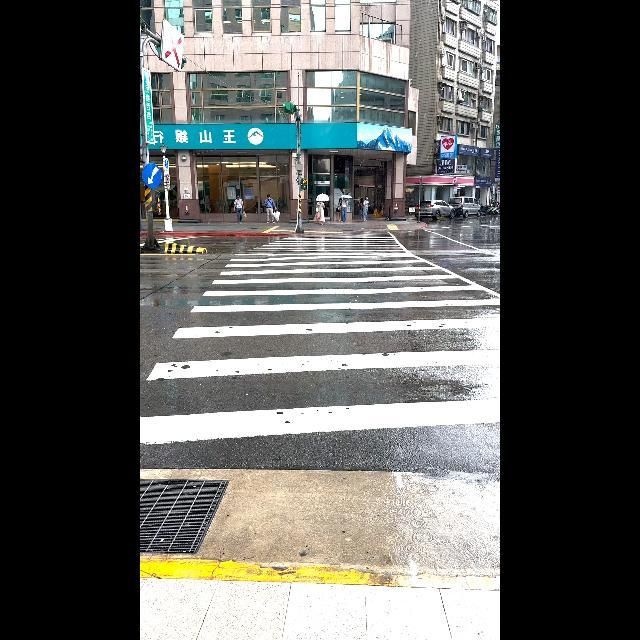sidewalk: (140, 234, 499, 445)
